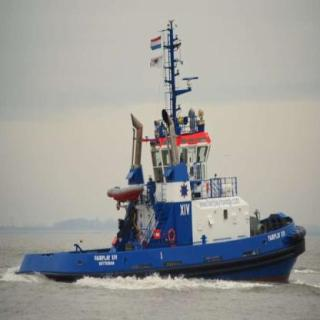Tug Boat: (23, 86, 304, 280)
